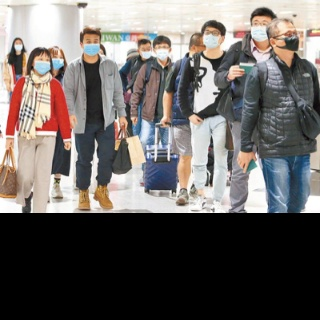with_mask: (251, 18, 271, 42), (202, 28, 222, 48), (283, 28, 300, 51), (32, 55, 51, 74), (83, 38, 101, 56), (49, 52, 64, 70), (156, 43, 169, 61), (140, 45, 152, 60), (12, 40, 24, 51)
